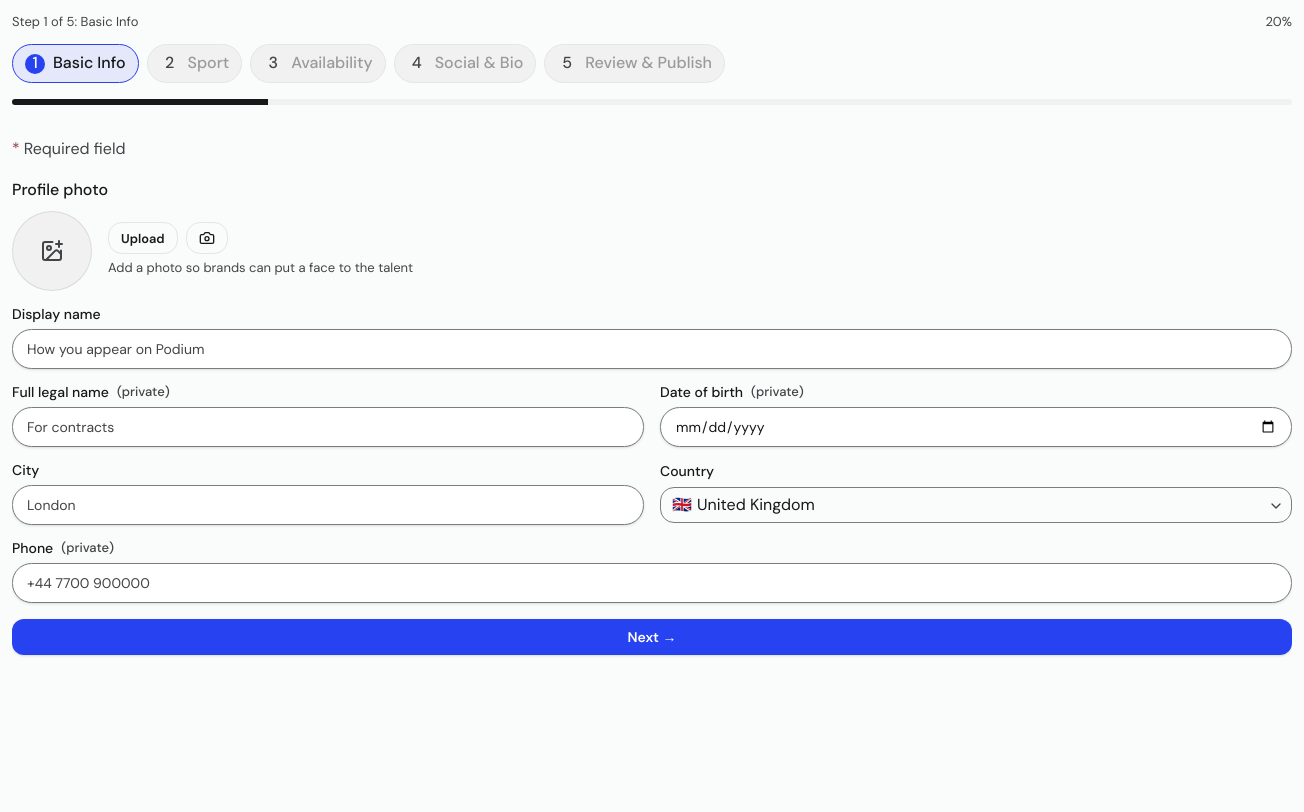
ProfileWizard › step 1: cannot advance without a profile photo — shows the required message
This screenshot has width=1304, height=812.
Type "James" into the field labelled "Display name" at (652, 348), box [12, 328, 1292, 368]
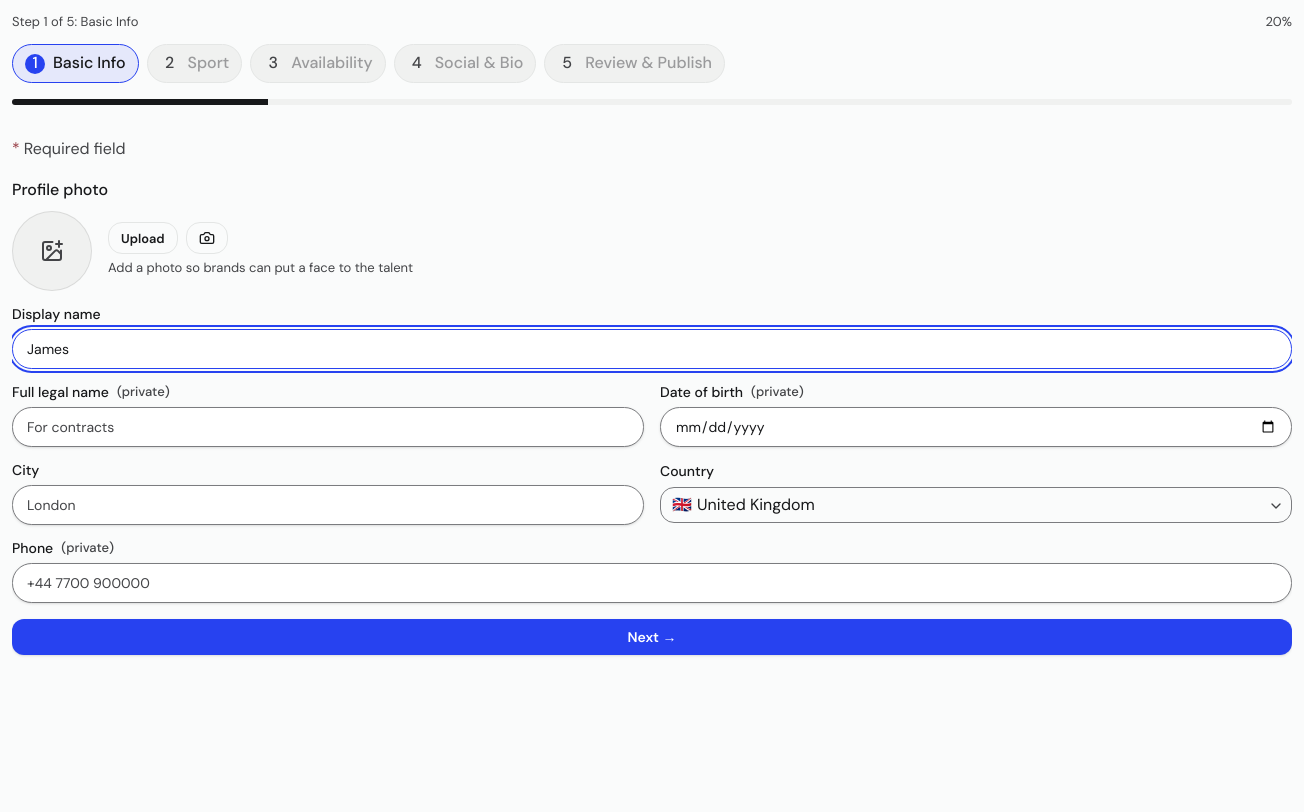
Click the button "Next →" at (652, 636), box [12, 618, 1292, 654]
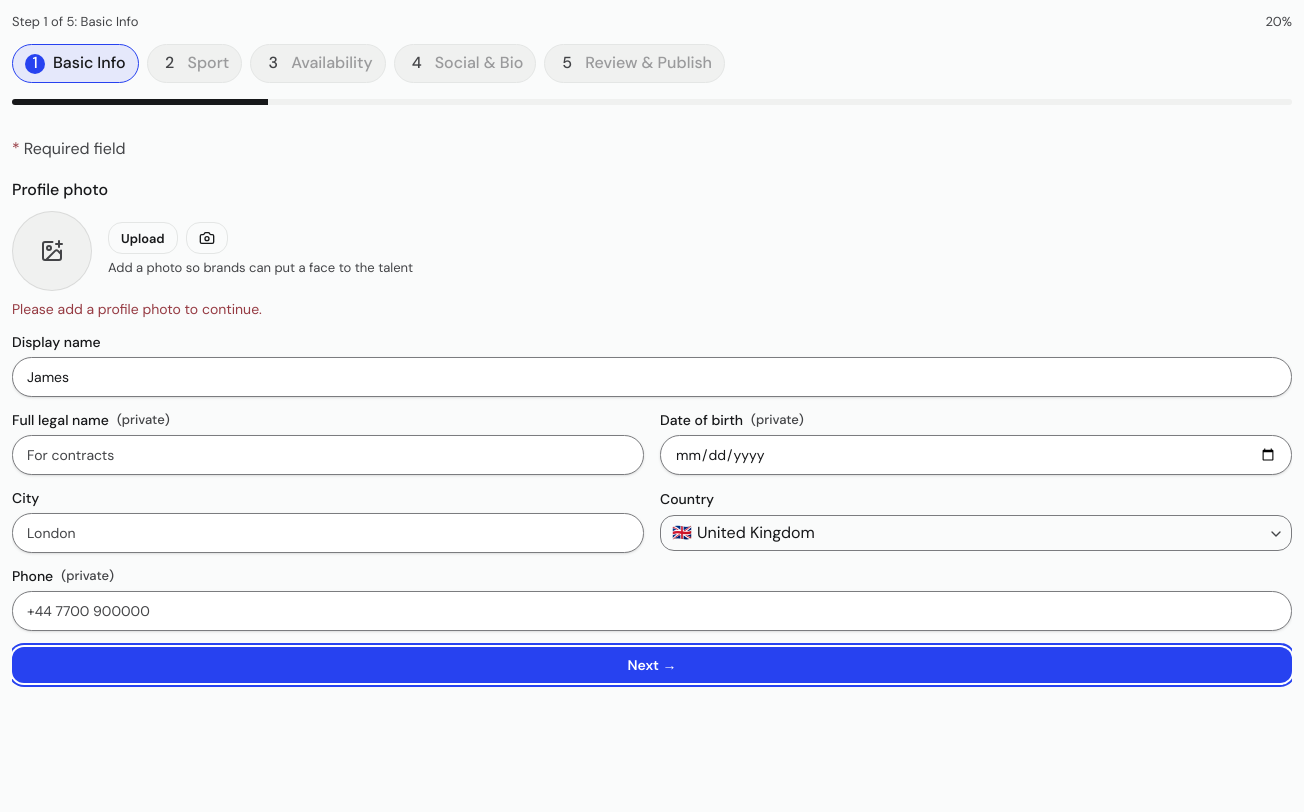
Expected: the text "Please add a profile photo to continue." is shown, [12, 300, 262, 318]
